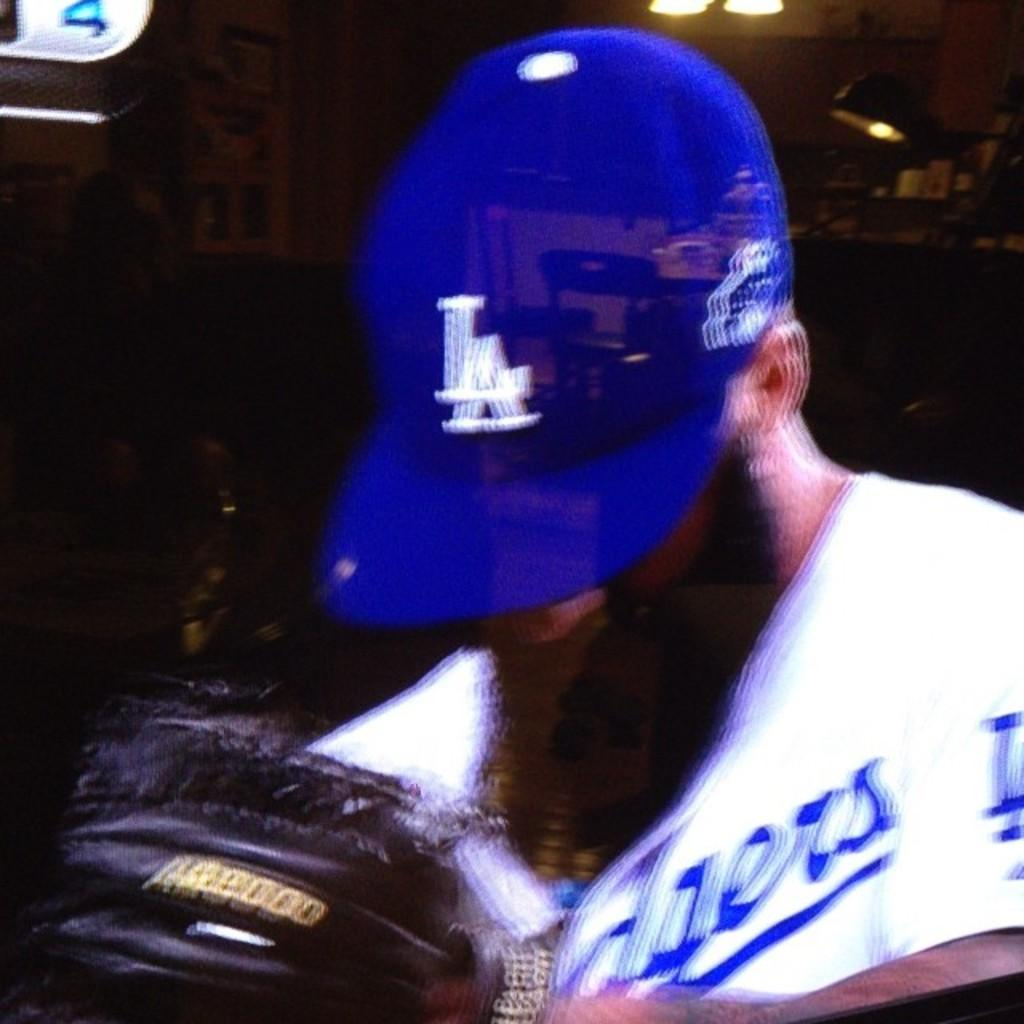Hat: (328, 24, 802, 618)
